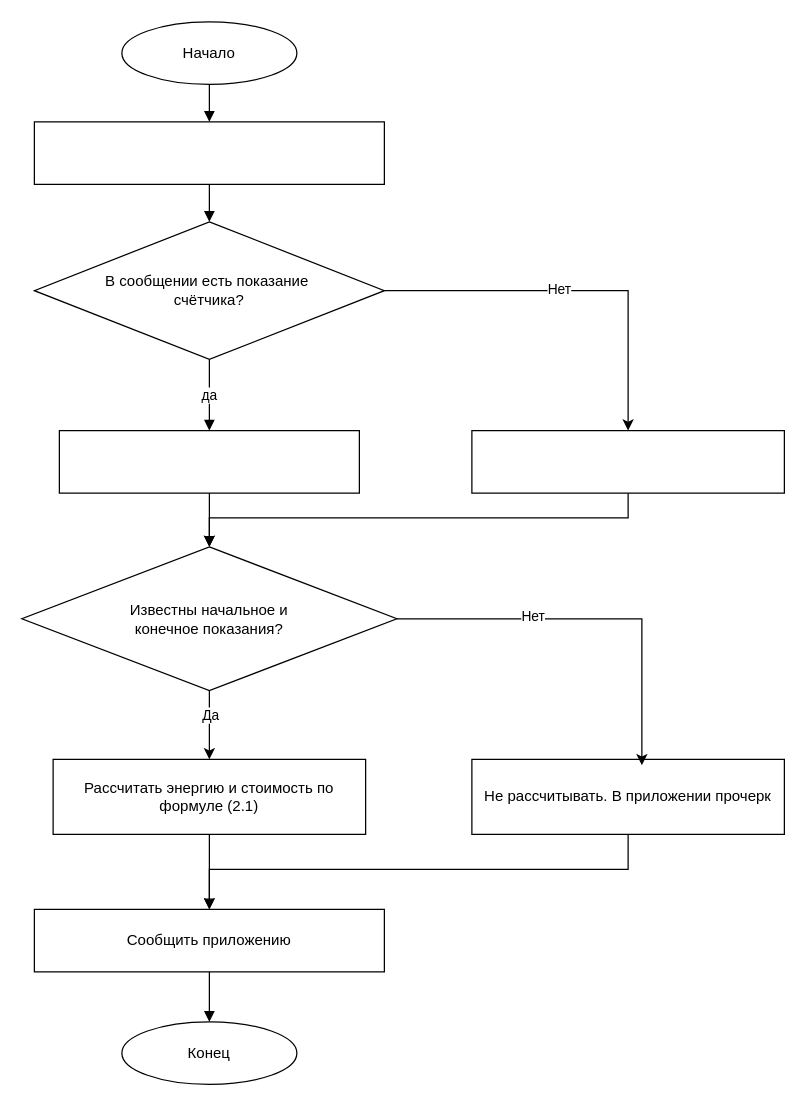
This 806x1106 diagram has some shape labels left out. The shapes that lost their labels are listed below. From the top down, each one's centre as x and y in pixels, then its label:
At point 208,152: "Получен TransactionEvent".
At point 208,461: "Записать показание в сессию".
At point 627,461: "Оставить прежнее значение счётчика".
